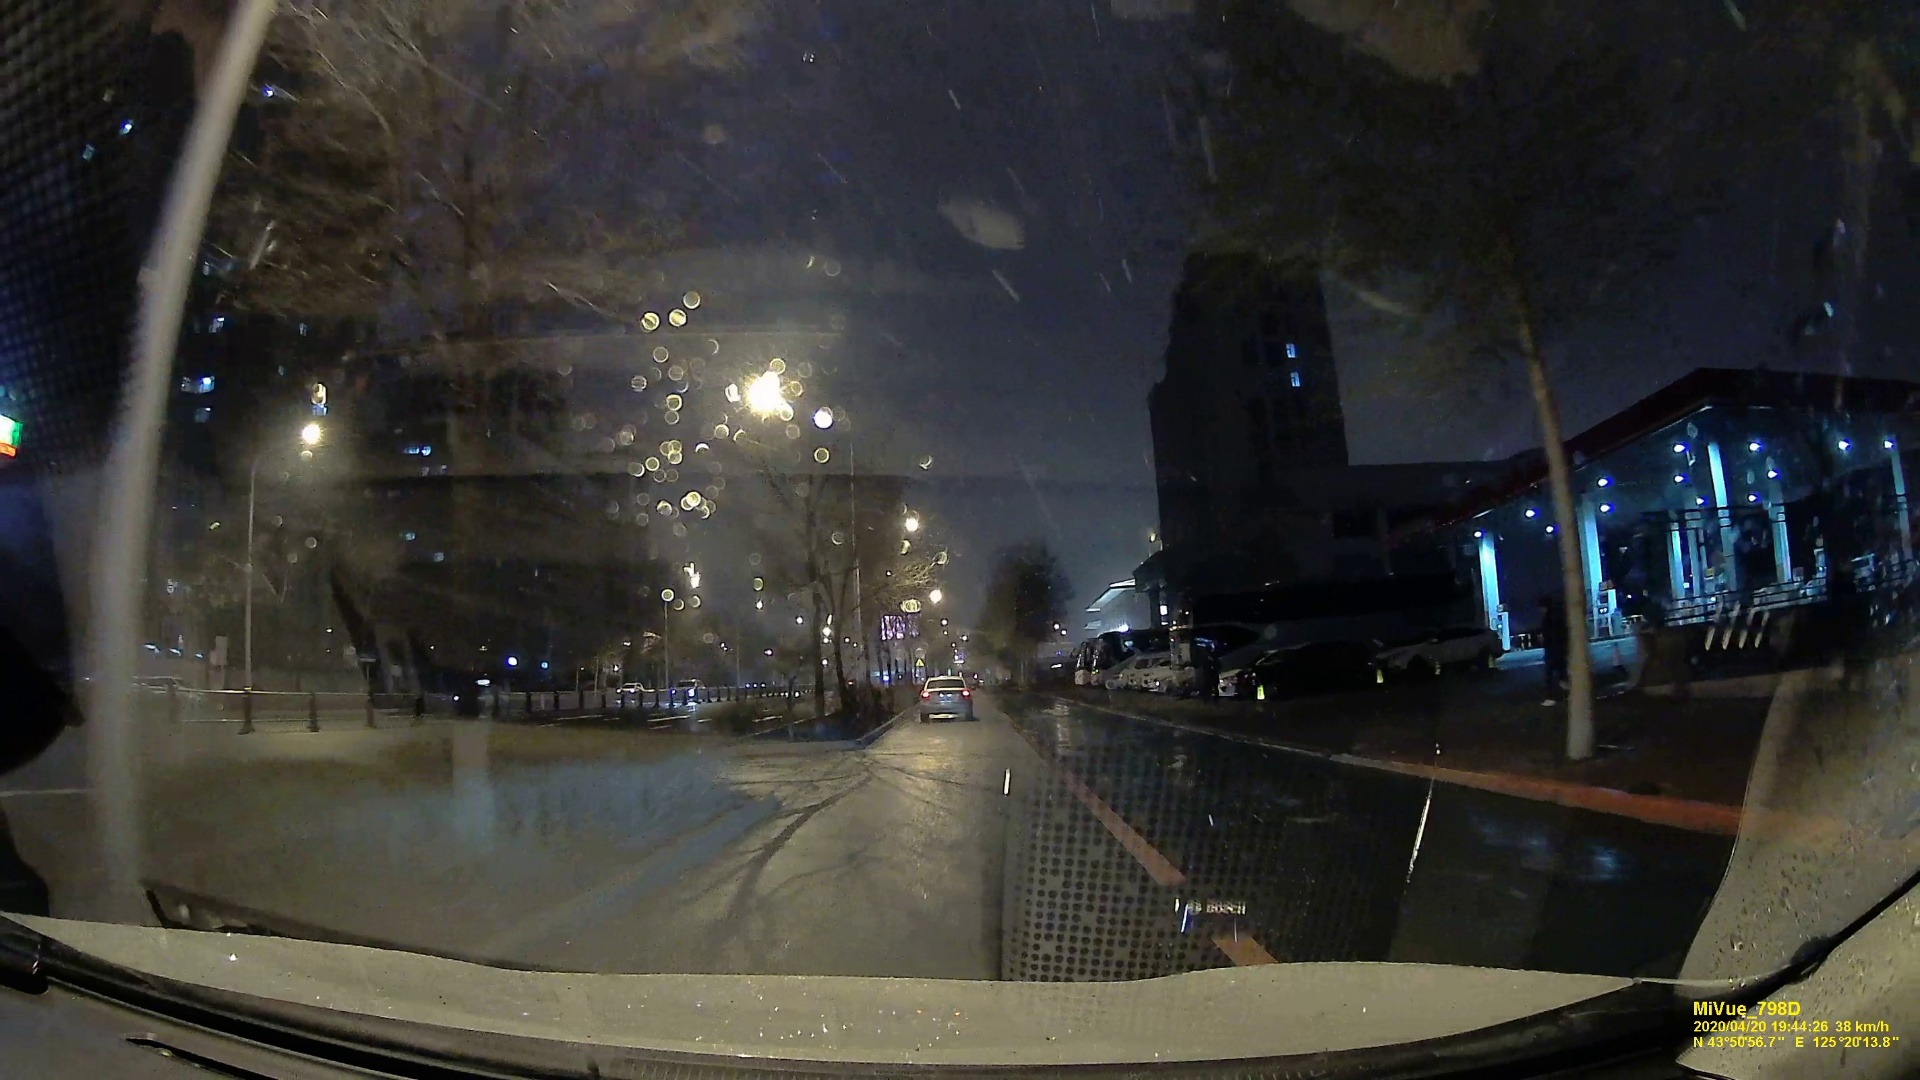vehicle: (920, 675, 971, 717)
